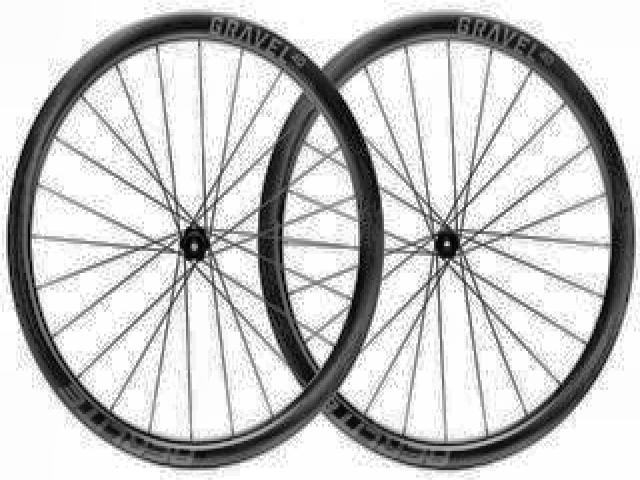wheel: (3, 7, 388, 476), (256, 6, 638, 473)
